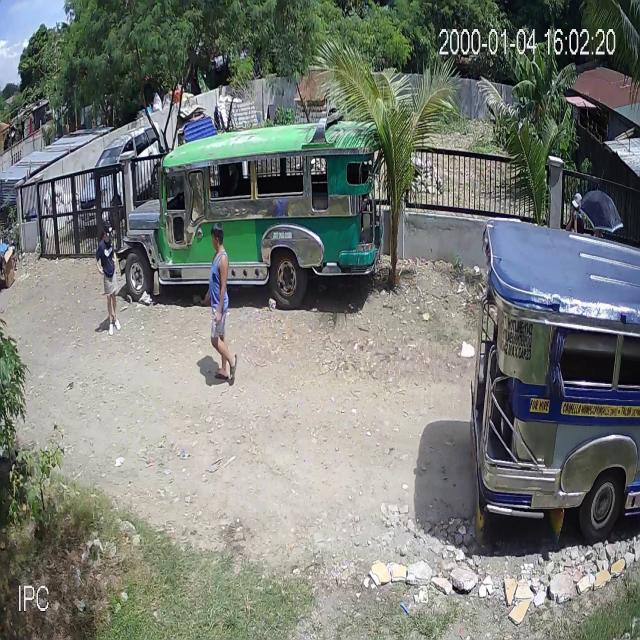standing: (96, 221, 123, 339), (566, 191, 585, 236), (590, 219, 606, 245)
walking: (207, 222, 247, 388)
